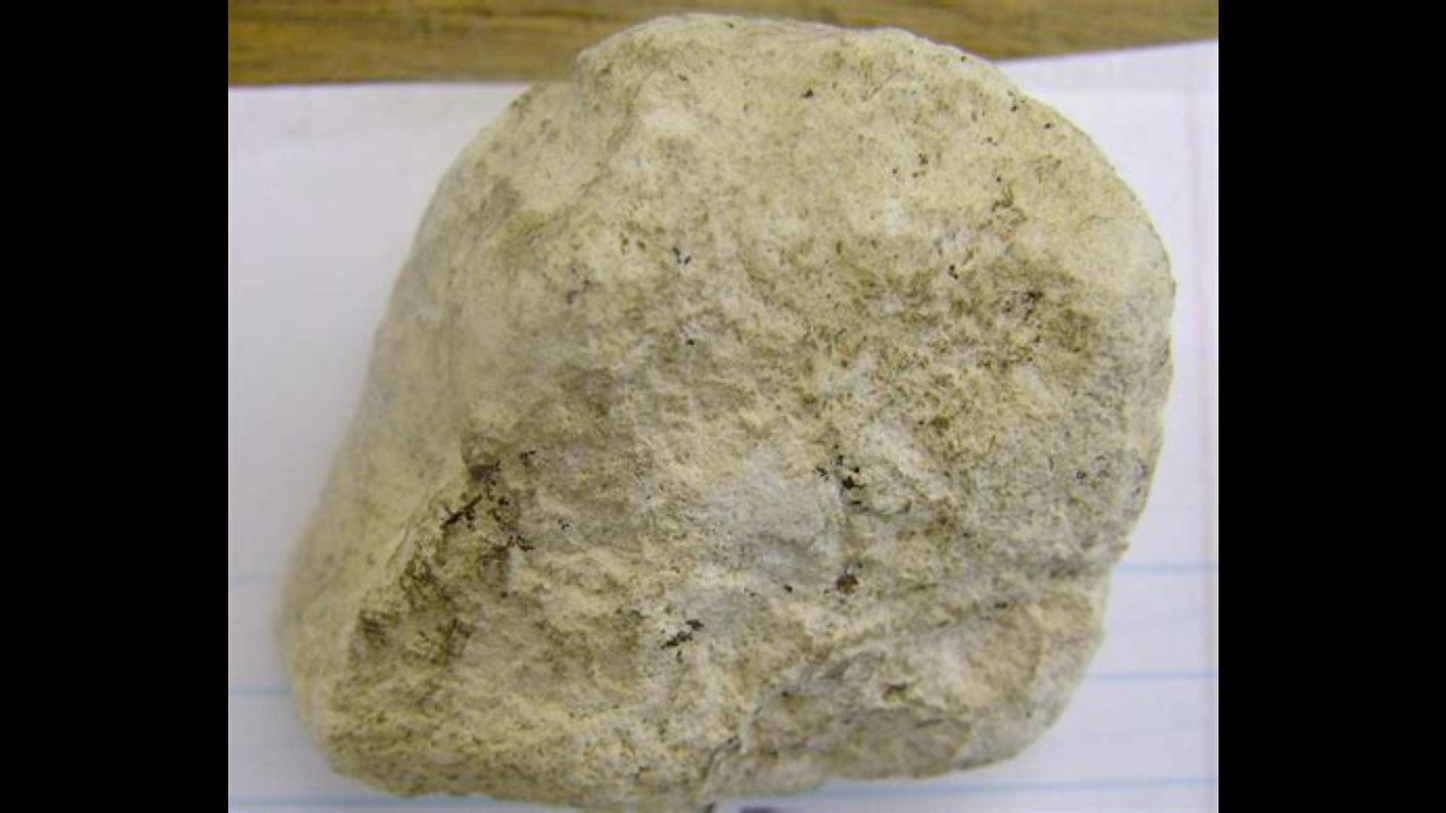rock: (296, 19, 1168, 807)
